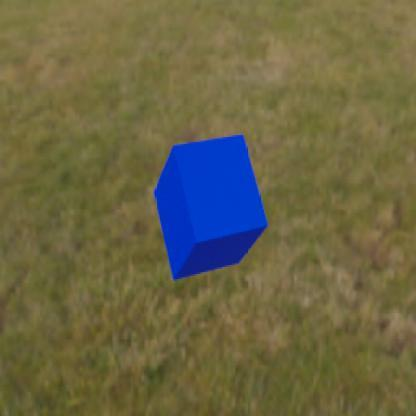blue_cube: (152, 133, 268, 281)
